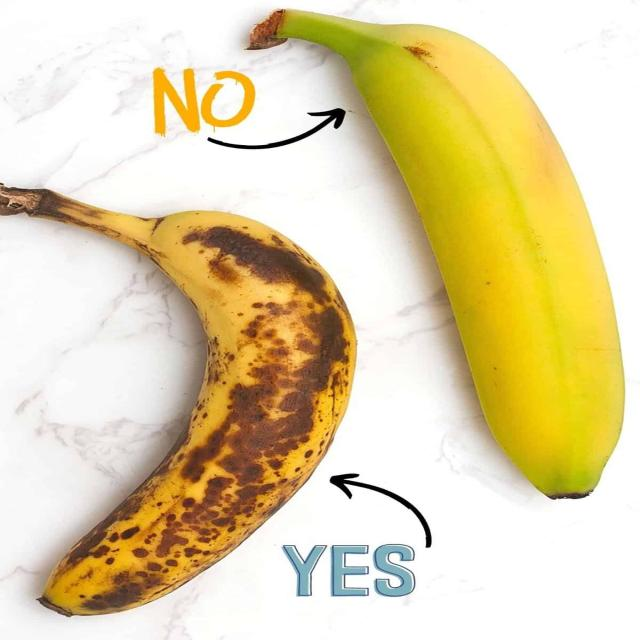banana_peel: (210, 0, 633, 522), (13, 140, 391, 628)
